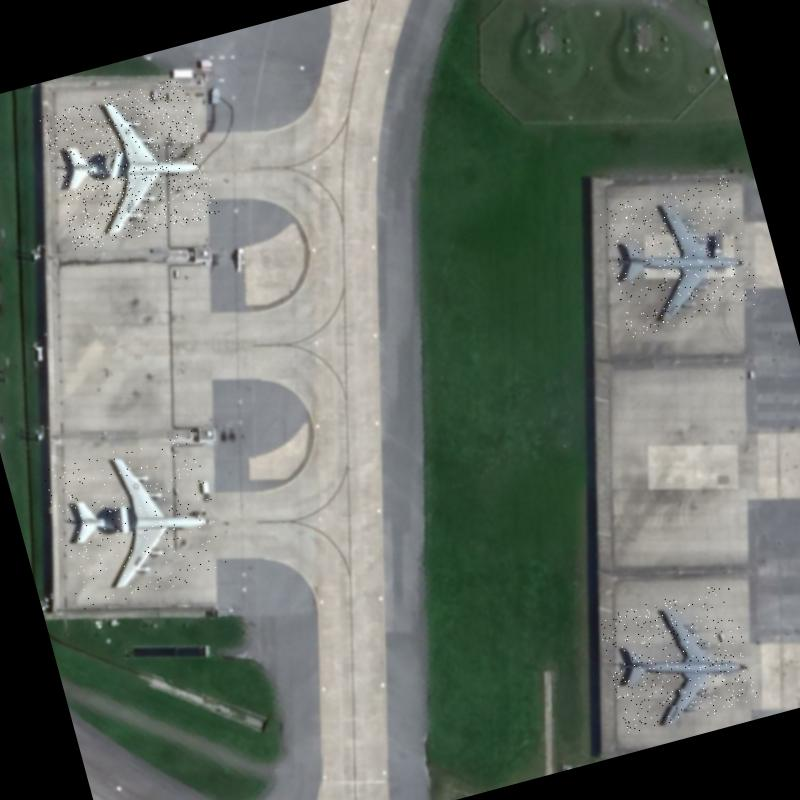A14: (595, 172, 761, 338), (596, 582, 759, 736)
A7: (42, 430, 231, 612), (38, 76, 220, 253)
